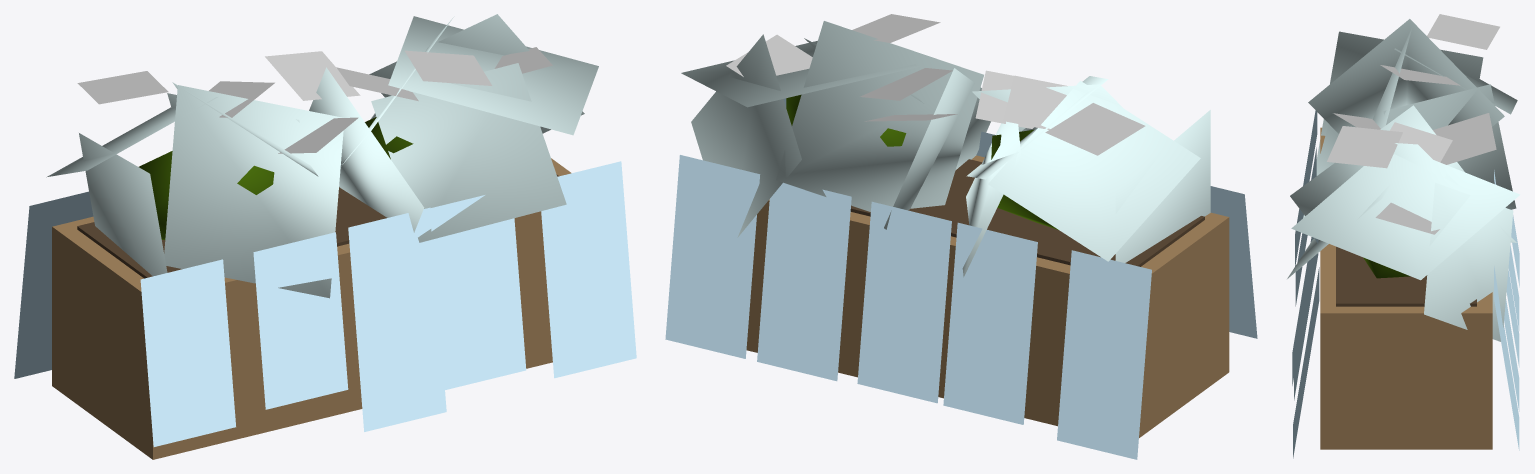
Rendered from planter_overflow.gltf.
3 renders of one model, left to right at view 1: azimuth 30°, elevation 25°; view 2: azimuth 150°, elevation 25°; view 3: azimuth 270°, elevation 25°, orthographic. The views are drawn at different scales.
Parts seen in each view (by area): view 1: planter_overflow_Leaf_Ivy, planter_overflow_Leaf_Mid, planter_overflow_Trellis_Wood, planter_overflow_Bloom_Yellow, planter_overflow_Core_Mid, planter_overflow_Soil_Dark, planter_overflow_Bloom_Cream, planter_overflow_Bloom_Red, planter_overflow_Bloom_Pink, planter_overflow_Bloom_Violet; view 2: planter_overflow_Leaf_Ivy, planter_overflow_Leaf_Mid, planter_overflow_Trellis_Wood, planter_overflow_Soil_Dark, planter_overflow_Bloom_Red, planter_overflow_Bloom_Pink, planter_overflow_Bloom_Yellow, planter_overflow_Core_Mid, planter_overflow_Bloom_Violet; view 3: planter_overflow_Leaf_Mid, planter_overflow_Trellis_Wood, planter_overflow_Leaf_Ivy, planter_overflow_Soil_Dark, planter_overflow_Bloom_Yellow, planter_overflow_Bloom_Cream, planter_overflow_Bloom_Red, planter_overflow_Bloom_Pink, planter_overflow_Core_Mid, planter_overflow_Bloom_Violet.
Part boxes in pixels (bbox=[...]): planter_overflow_Leaf_Ivy: bbox=[14, 161, 636, 446]; planter_overflow_Leaf_Mid: bbox=[46, 14, 598, 298]; planter_overflow_Trellis_Wood: bbox=[52, 158, 571, 459]; planter_overflow_Bloom_Yellow: bbox=[405, 47, 552, 85]; planter_overflow_Core_Mid: bbox=[139, 117, 413, 239]; planter_overflow_Soil_Dark: bbox=[77, 174, 558, 278]; planter_overflow_Bloom_Cream: bbox=[265, 51, 360, 100]; planter_overflow_Bloom_Red: bbox=[209, 67, 418, 117]; planter_overflow_Bloom_Pink: bbox=[77, 71, 168, 104]; planter_overflow_Bloom_Violet: bbox=[278, 117, 358, 153]; planter_overflow_Leaf_Ivy: bbox=[665, 98, 1257, 459]; planter_overflow_Leaf_Mid: bbox=[681, 21, 1210, 277]; planter_overflow_Trellis_Wood: bbox=[746, 155, 1229, 437]; planter_overflow_Soil_Dark: bbox=[850, 159, 1204, 266]; planter_overflow_Bloom_Red: bbox=[860, 68, 1067, 129]; planter_overflow_Bloom_Pink: bbox=[1045, 103, 1145, 155]; planter_overflow_Bloom_Yellow: bbox=[726, 14, 940, 76]; planter_overflow_Core_Mid: bbox=[786, 94, 1058, 229]; planter_overflow_Bloom_Violet: bbox=[975, 70, 1033, 128]; planter_overflow_Leaf_Mid: bbox=[1287, 19, 1520, 341]; planter_overflow_Trellis_Wood: bbox=[1320, 127, 1492, 449]; planter_overflow_Leaf_Ivy: bbox=[1292, 110, 1519, 458]; planter_overflow_Soil_Dark: bbox=[1336, 246, 1476, 306]; planter_overflow_Bloom_Yellow: bbox=[1327, 126, 1439, 234]; planter_overflow_Bloom_Cream: bbox=[1433, 113, 1496, 164]; planter_overflow_Bloom_Red: bbox=[1380, 65, 1460, 162]; planter_overflow_Bloom_Pink: bbox=[1427, 14, 1499, 49]; planter_overflow_Core_Mid: bbox=[1363, 257, 1409, 278]; planter_overflow_Bloom_Violet: bbox=[1333, 113, 1380, 129].
Size of the model in its own units: 1.66 by 0.9933 by 0.7473.
